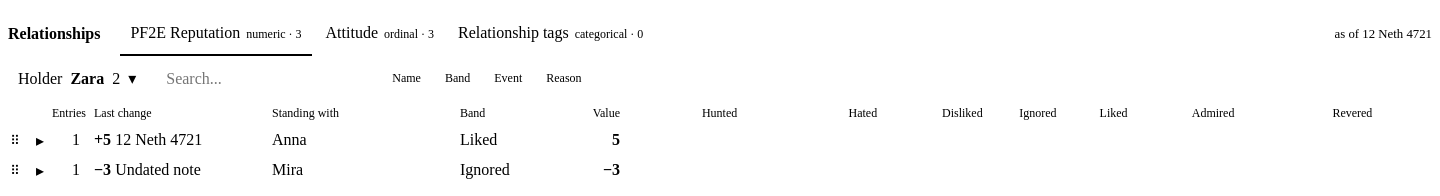
it: RelationshipsView › Attitude tab (placeholder layout) › shows rung labels in changes rather than raw keys
Click the tab "Attitude ordinal · 3": click(380, 34) [316,12,444,56]
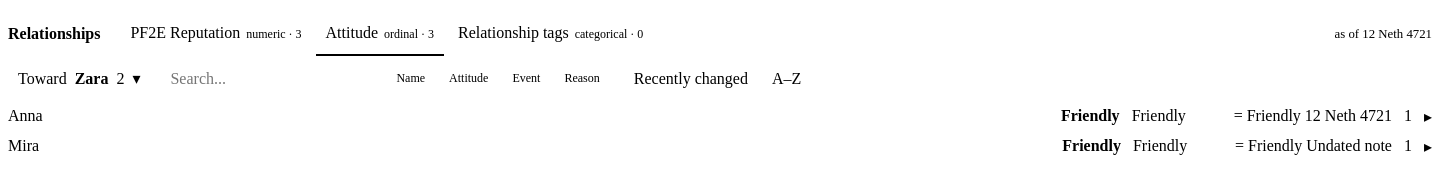
Expected: the text with class "rel-row-last" shows "= Friendly", [1234,107,1392,124]
